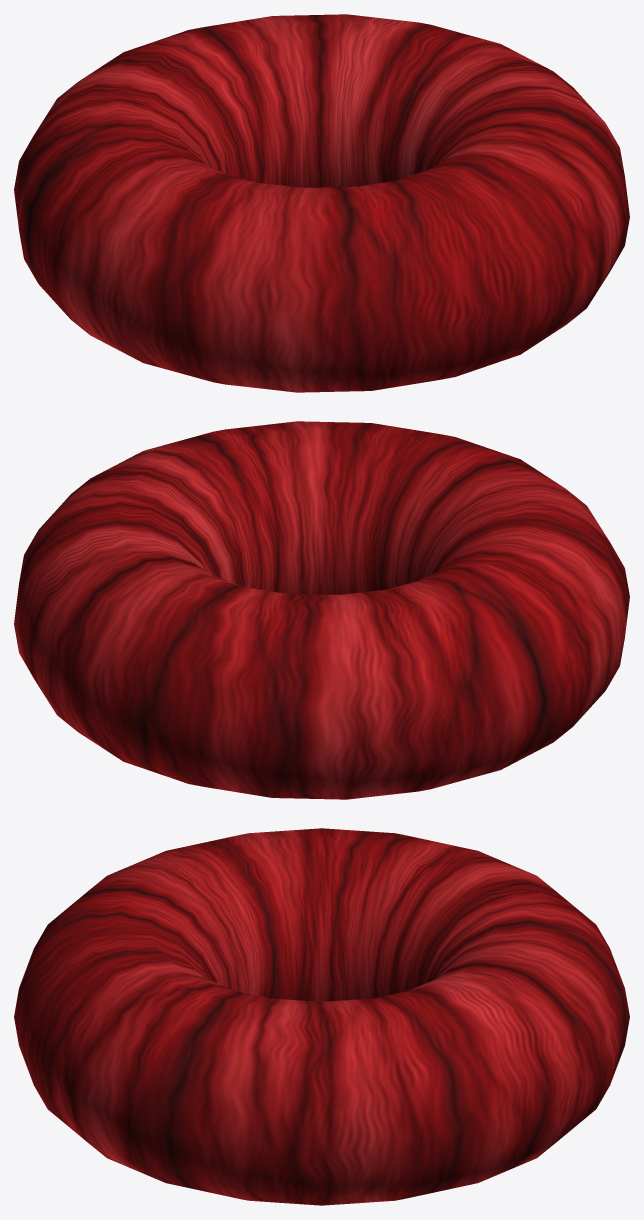
The model's file is thor.obj.
3 renders of one model, top to bottom at view 1: azimuth 30°, elevation 25°; view 2: azimuth 150°, elevation 25°; view 3: azimuth 270°, elevation 25°, orthographic.
Visible parts, largest first — view 1: pTorus1; view 2: pTorus1; view 3: pTorus1.
Part boxes in pixels (x1,y1,x2,y2): pTorus1: (14, 14, 629, 392); pTorus1: (14, 421, 629, 799); pTorus1: (14, 828, 629, 1205).
Size of the model in its own units: 3 by 1 by 3.
Materials: 1 (1 with a texture image).
